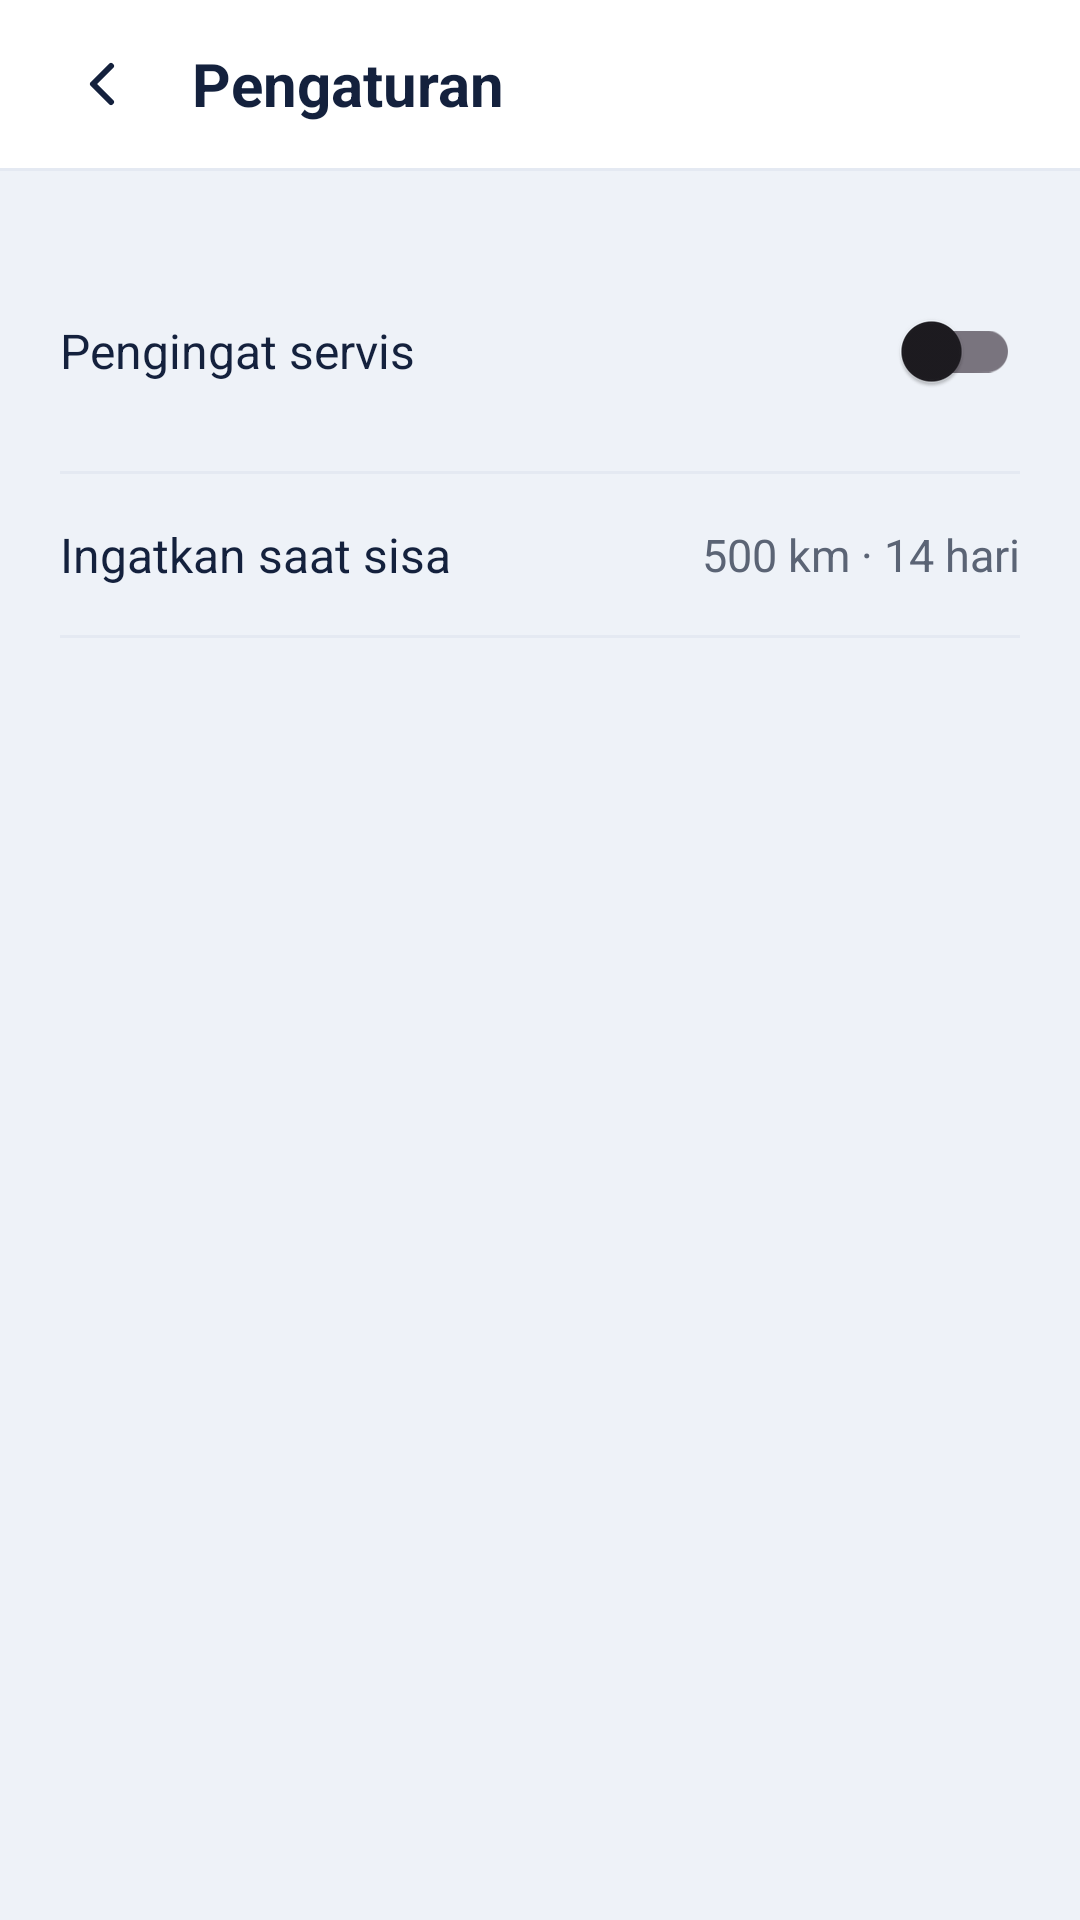

Locate icon controls on the screen. Image size 1080px x 1920px, boxes as (x1, y1, x2, y2).
Kembali: (90, 63, 114, 105)
